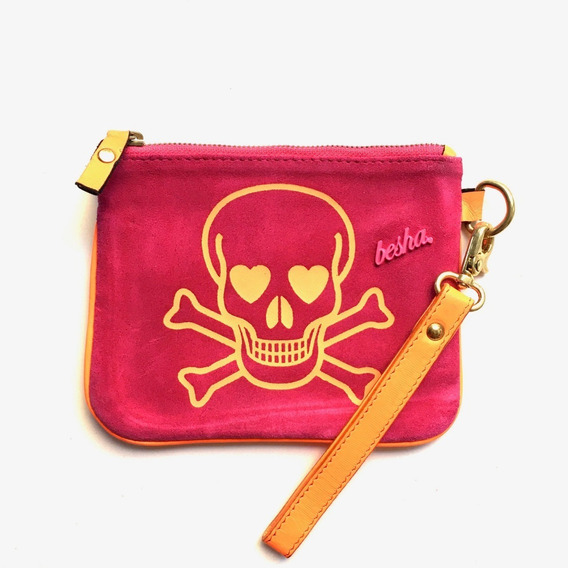cartera: (80, 127, 512, 453)
